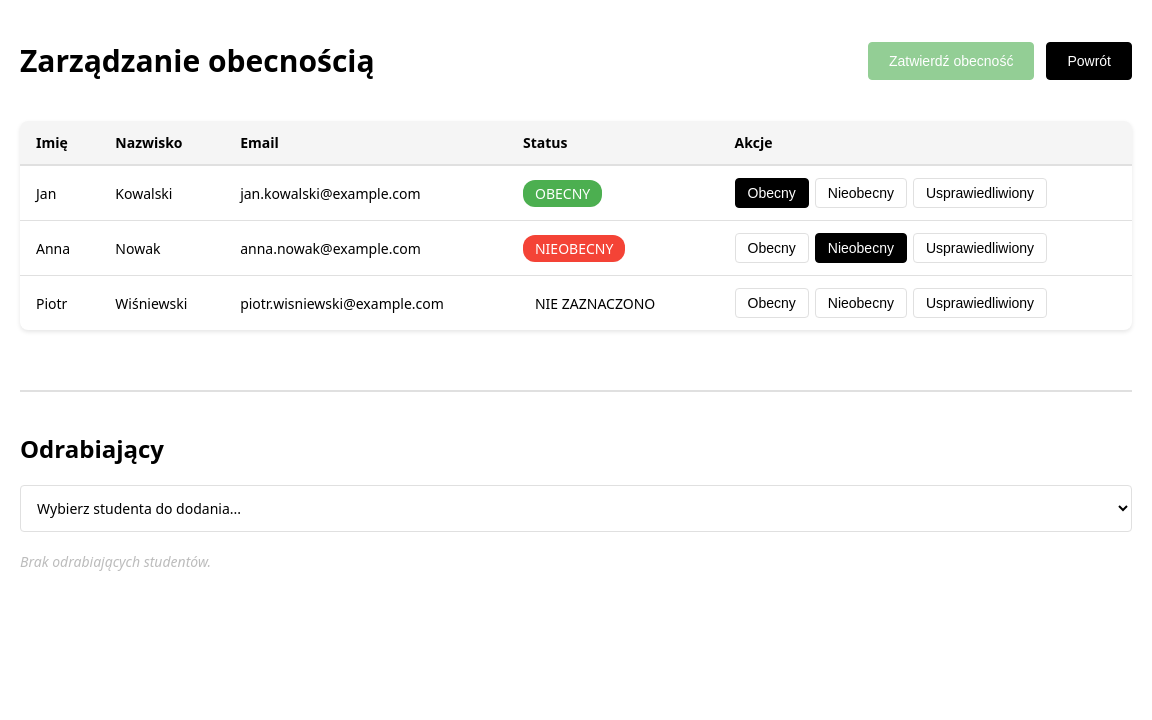
Test case: AttendanceManagementPage › should change status when button is clicked
Click the button "Nieobecny" in the row of "jan.kowalski@example.com".
click(861, 193)  # box [815, 178, 907, 208]
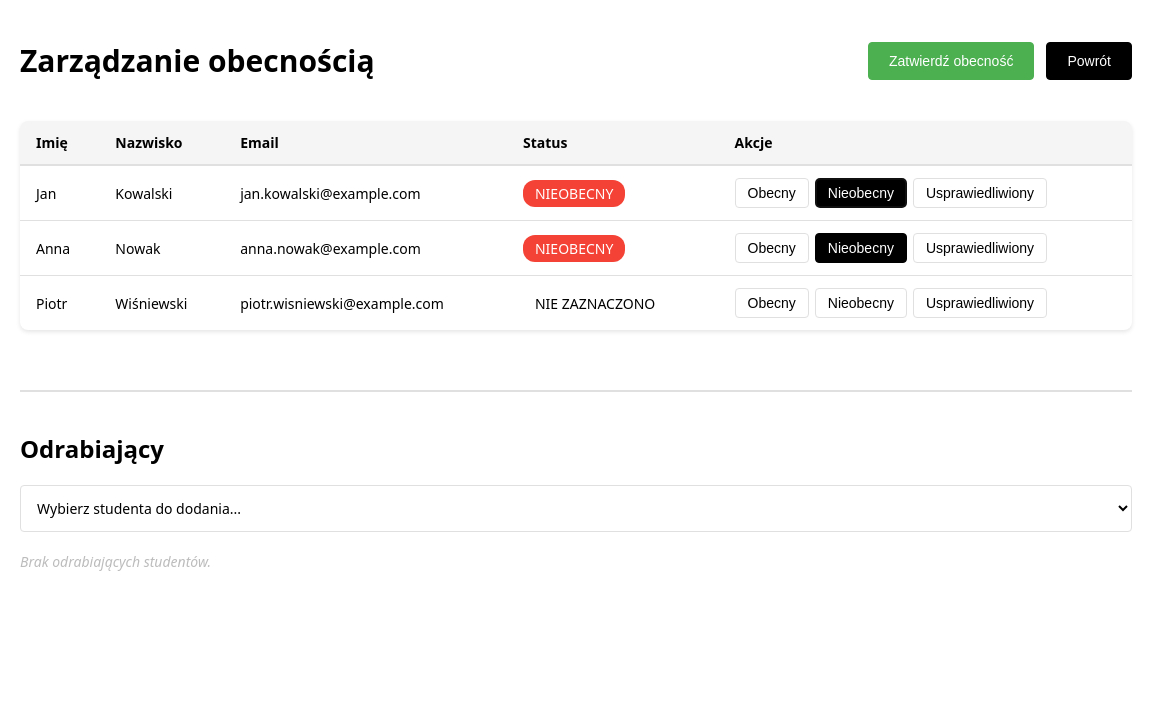
Expected: the button "Zatwierdź obecność" is enabled, [868, 42, 1034, 80]
